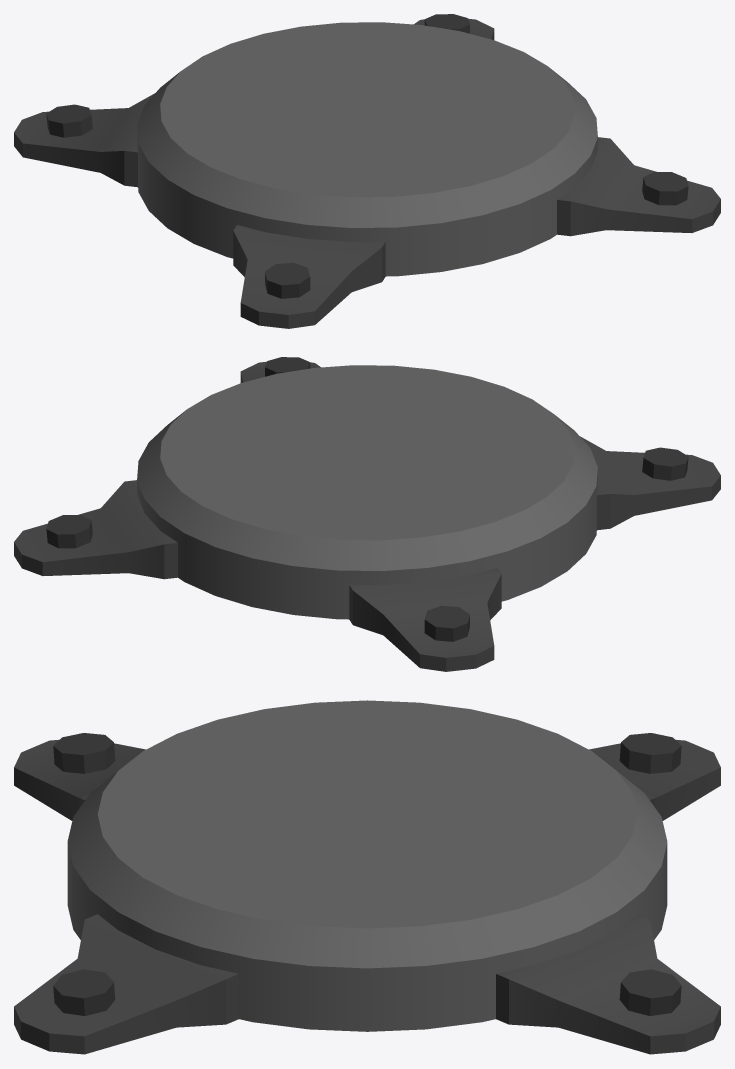
Rendered from pad_1.fbx.
3 renders of one model, top to bottom at view 1: azimuth 30°, elevation 25°; view 2: azimuth 150°, elevation 25°; view 3: azimuth 270°, elevation 25°, orthographic. The views are drawn at different scales.
Visible parts, largest first — view 1: pad_1; view 2: pad_1; view 3: pad_1.
Boxes of the visible parts, left/top/right/bottom form: pad_1: left=14, top=14, right=720, bottom=328; pad_1: left=14, top=357, right=720, bottom=671; pad_1: left=14, top=700, right=720, bottom=1054.
Size of the model in its own units: 0.7071 by 0.7071 by 0.1.
